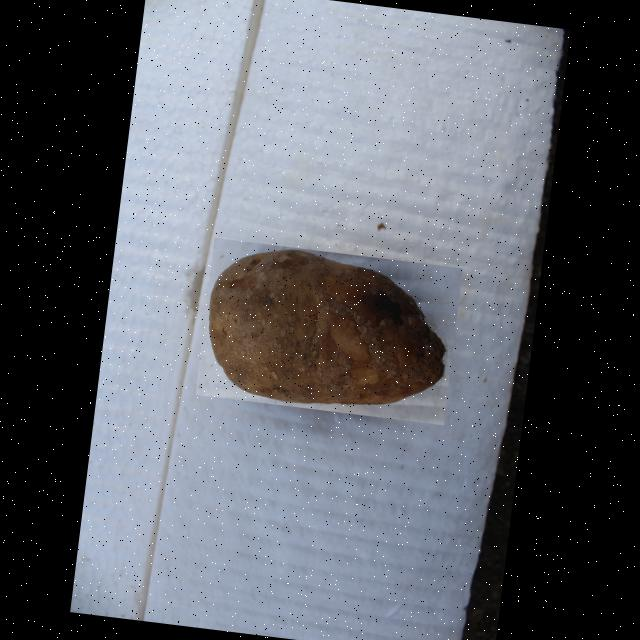Diseased-fungal potato: (195, 236, 462, 424)
